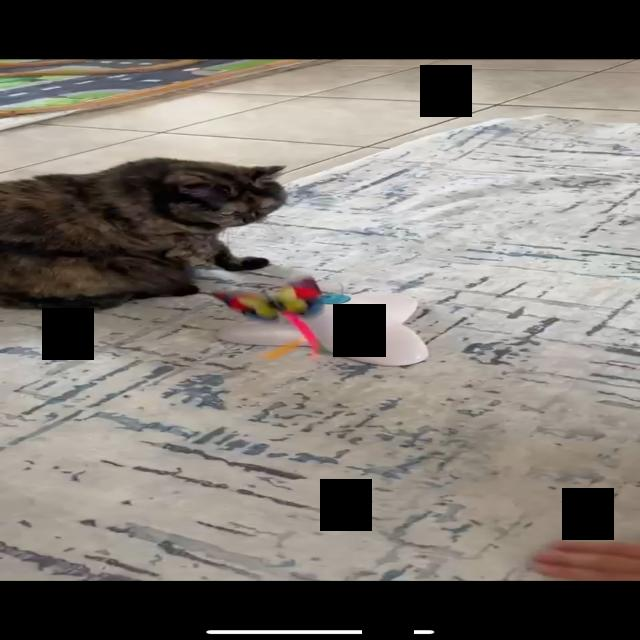authorized: (0, 156, 289, 312)
